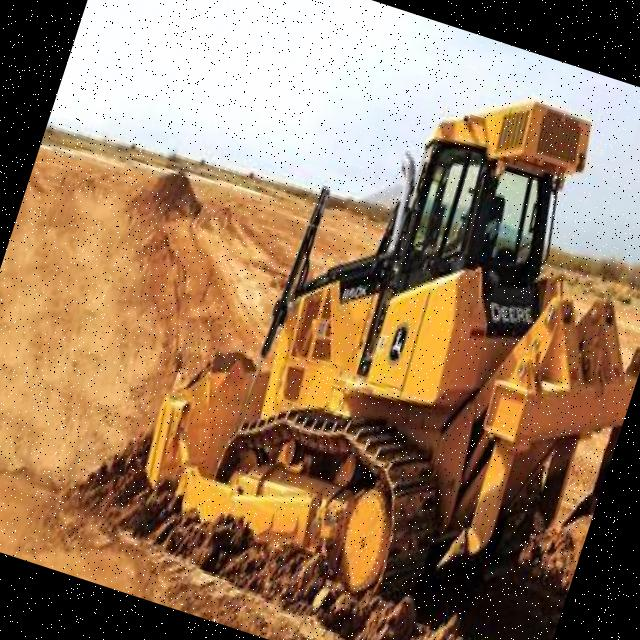Bulldozer: (63, 4, 640, 640)
